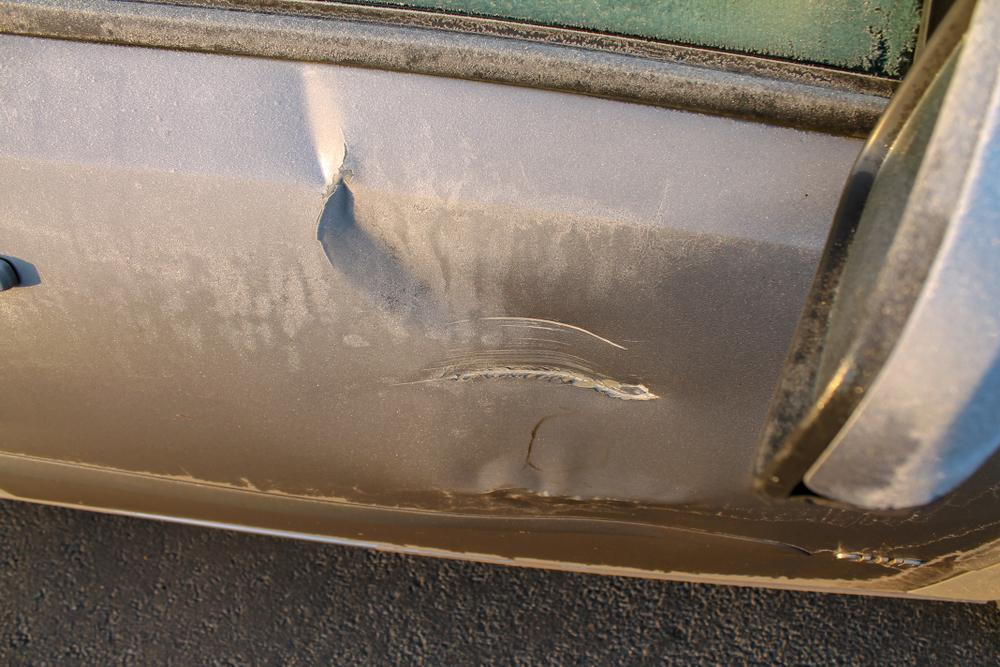dent: (268, 67, 420, 293), (454, 446, 672, 503)
scratch: (405, 307, 672, 412)
